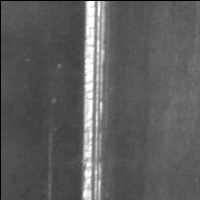scratches: (80, 1, 108, 200)
